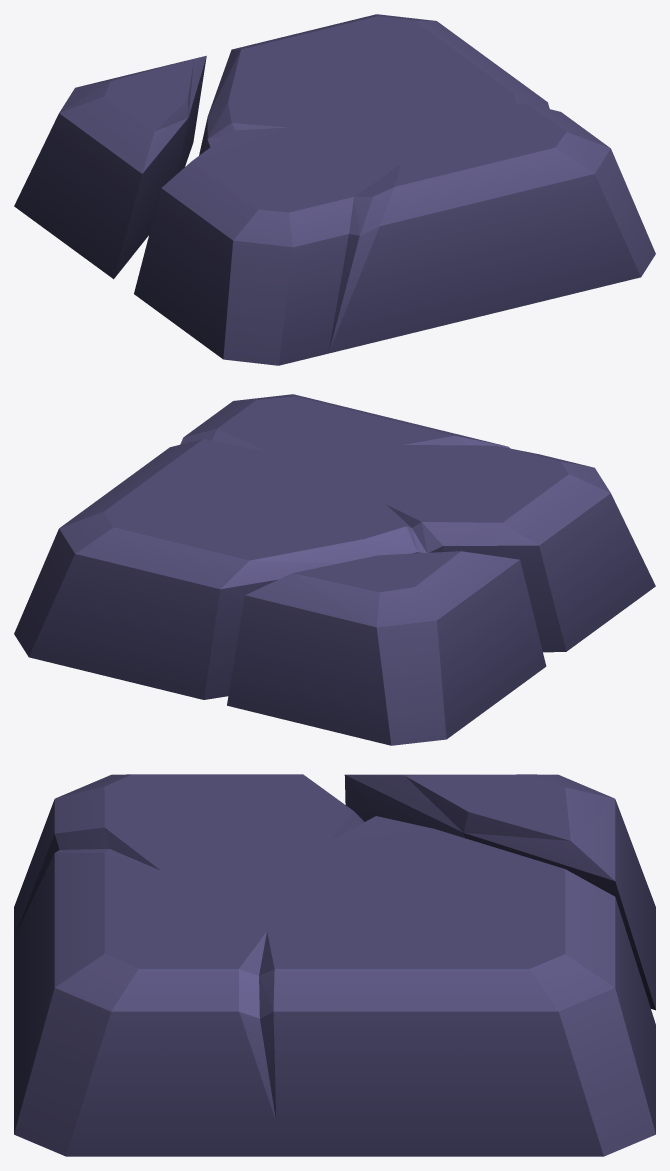
Rendered from tile_4.glb.
The picture shows the model from 3 angles, top to bottom: view 1: azimuth 30°, elevation 25°; view 2: azimuth 150°, elevation 25°; view 3: azimuth 270°, elevation 25°; orthographic projection. The views are drawn at different scales.
Visible parts, largest first — view 1: tile_4; view 2: tile_4; view 3: tile_4.
Part boxes in pixels (x1=…): tile_4: x1=14, y1=14, x2=655, y2=365; tile_4: x1=14, y1=394, x2=655, y2=745; tile_4: x1=14, y1=774, x2=655, y2=1156.
Size of the model in its own units: 2 by 0.5163 by 2.
Materials: 1 (1 with a texture image).
